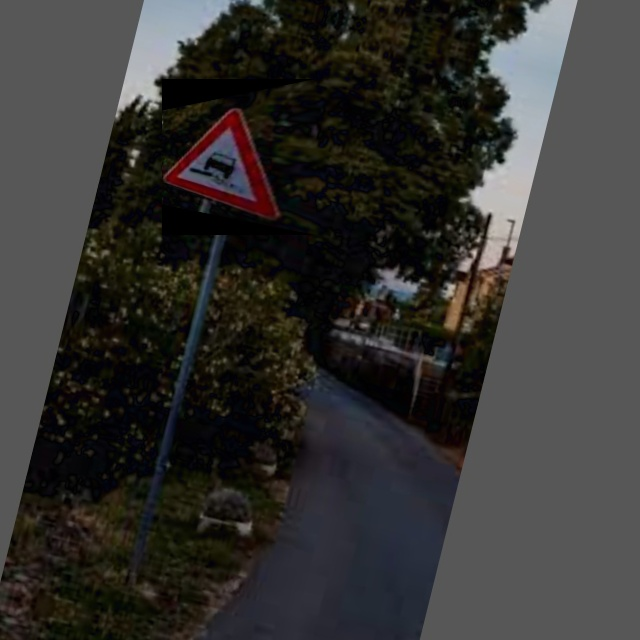Loose_Gravel: (162, 79, 316, 235)
